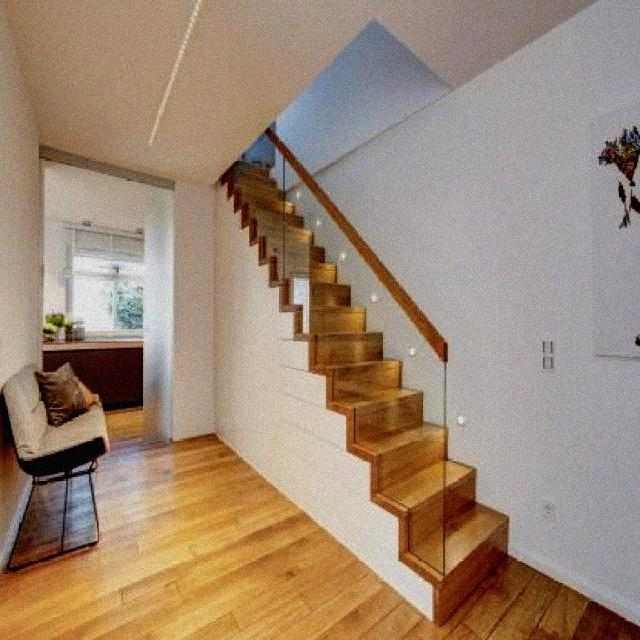stair: (212, 132, 534, 603)
